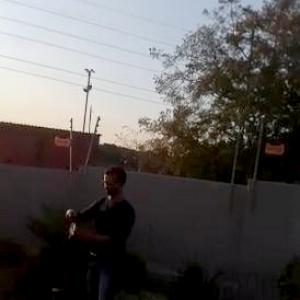follow: (51, 158, 146, 299)
